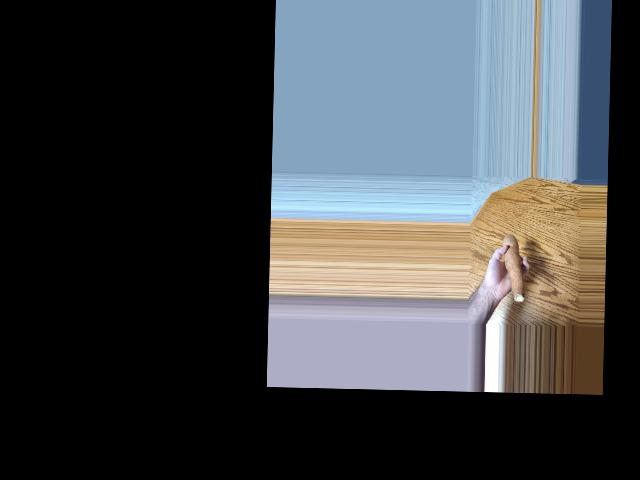sweet_potato: (504, 231, 527, 307)
